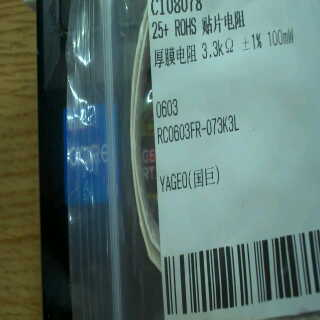3.3kO: (198, 38, 236, 69)
